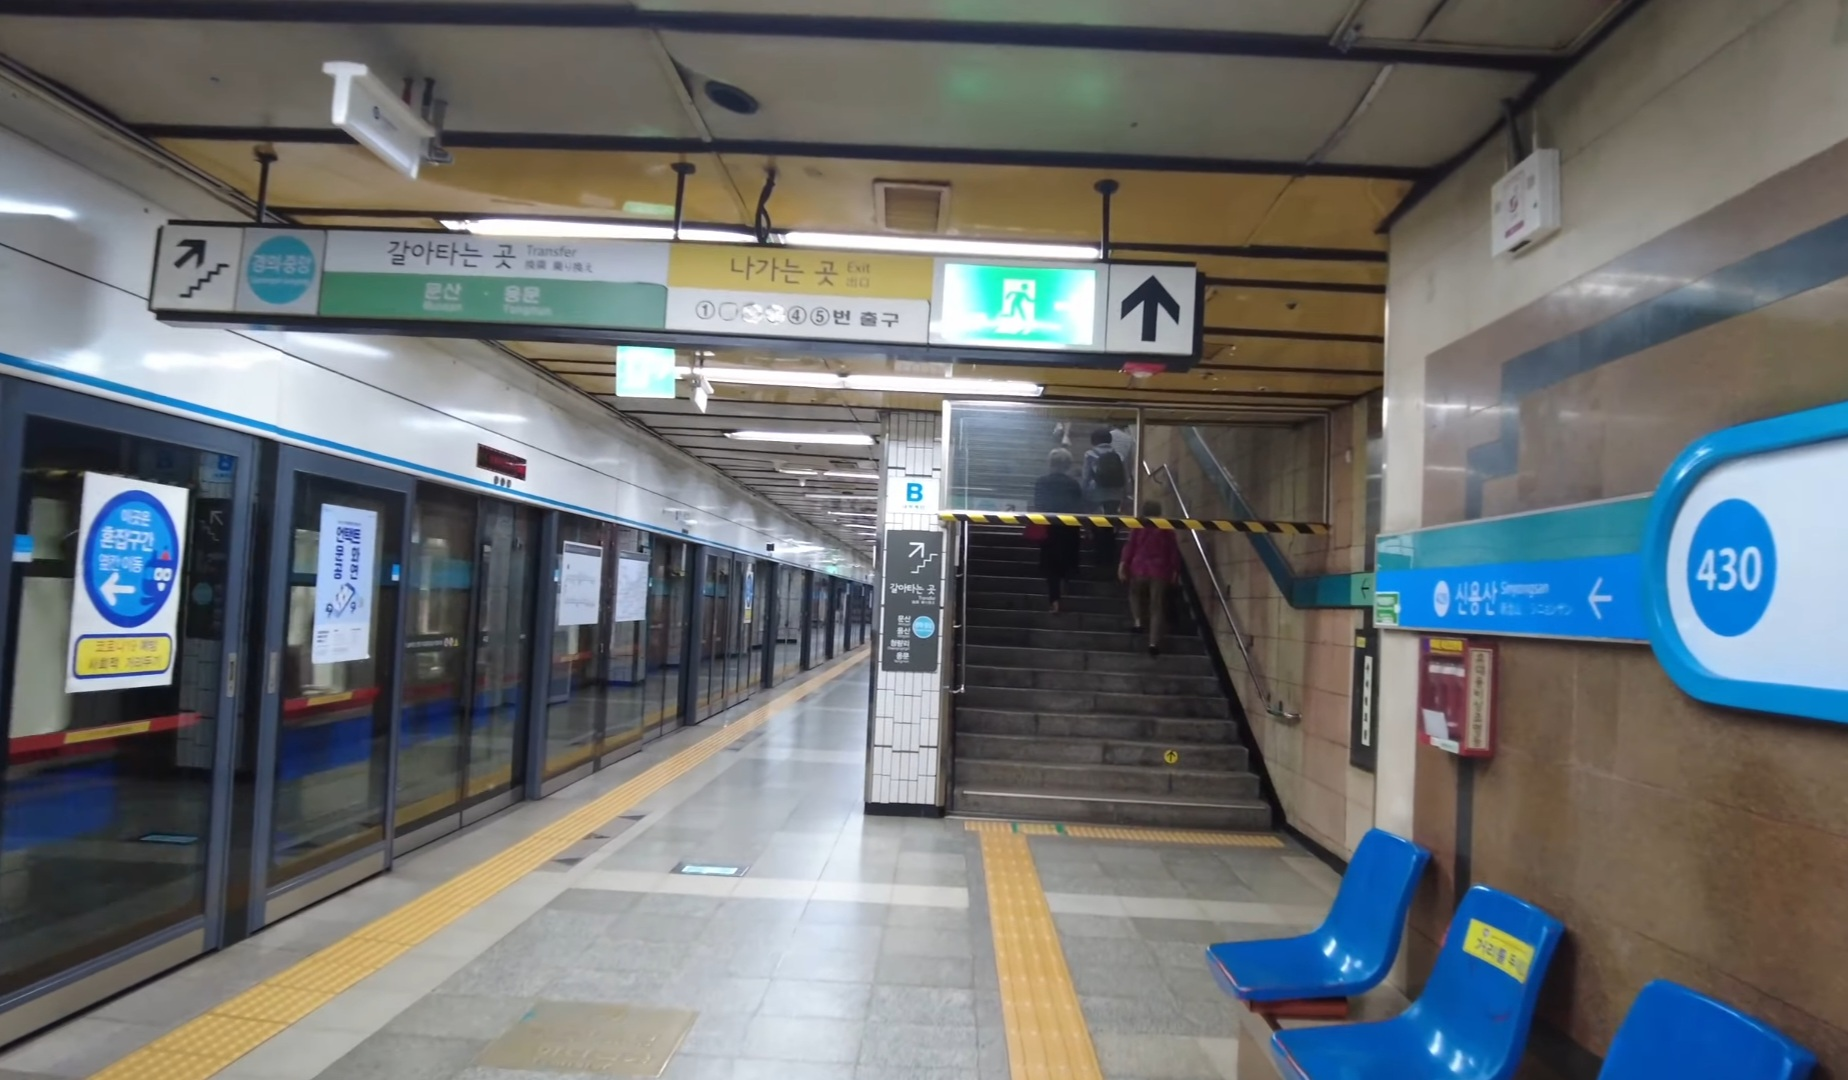signBoard: (132, 204, 1211, 377)
